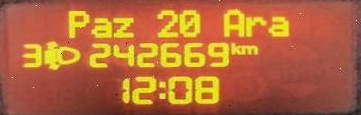0: (167, 74, 192, 105), (178, 6, 201, 37)
1: (120, 75, 129, 104)
2: (156, 8, 180, 39), (132, 74, 154, 105), (87, 41, 109, 68), (136, 41, 158, 68)
3: (21, 40, 42, 67)
4: (111, 42, 134, 67)
6: (159, 40, 181, 67), (184, 40, 205, 67)
8: (192, 73, 220, 104)
9: (207, 40, 229, 67)
X: (221, 7, 244, 37), (65, 8, 88, 37), (111, 14, 136, 37), (267, 14, 291, 37), (244, 14, 266, 36), (90, 15, 111, 38), (240, 44, 259, 55), (157, 79, 165, 102), (230, 40, 239, 55)
